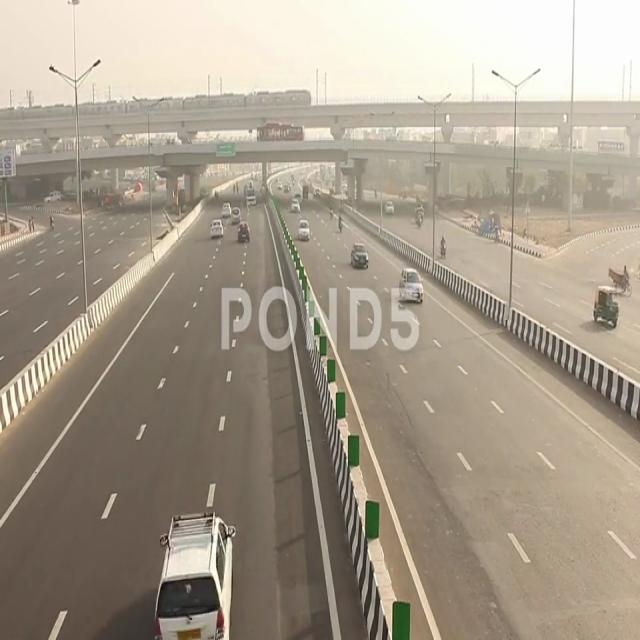car: (150, 491, 249, 640), (269, 35, 304, 83), (399, 267, 427, 312), (348, 242, 372, 274)
rikshaw: (595, 282, 625, 333)
